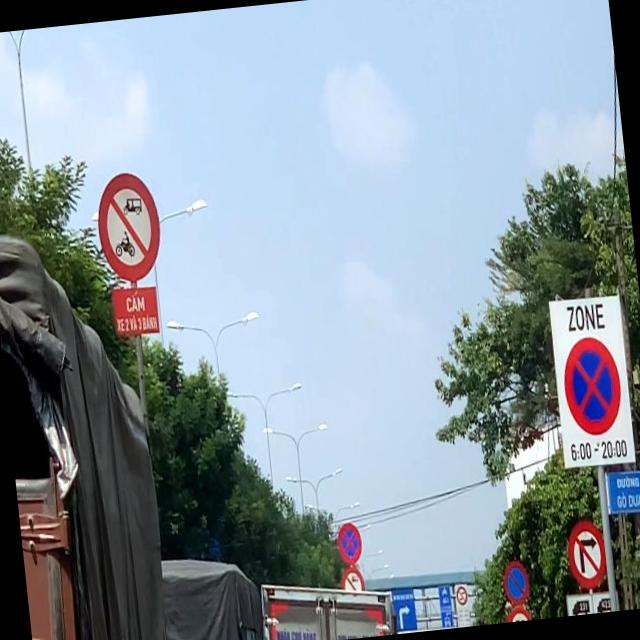P-104: (92, 170, 164, 282)
P-123b: (564, 519, 609, 591)
P-130: (560, 333, 624, 436)
